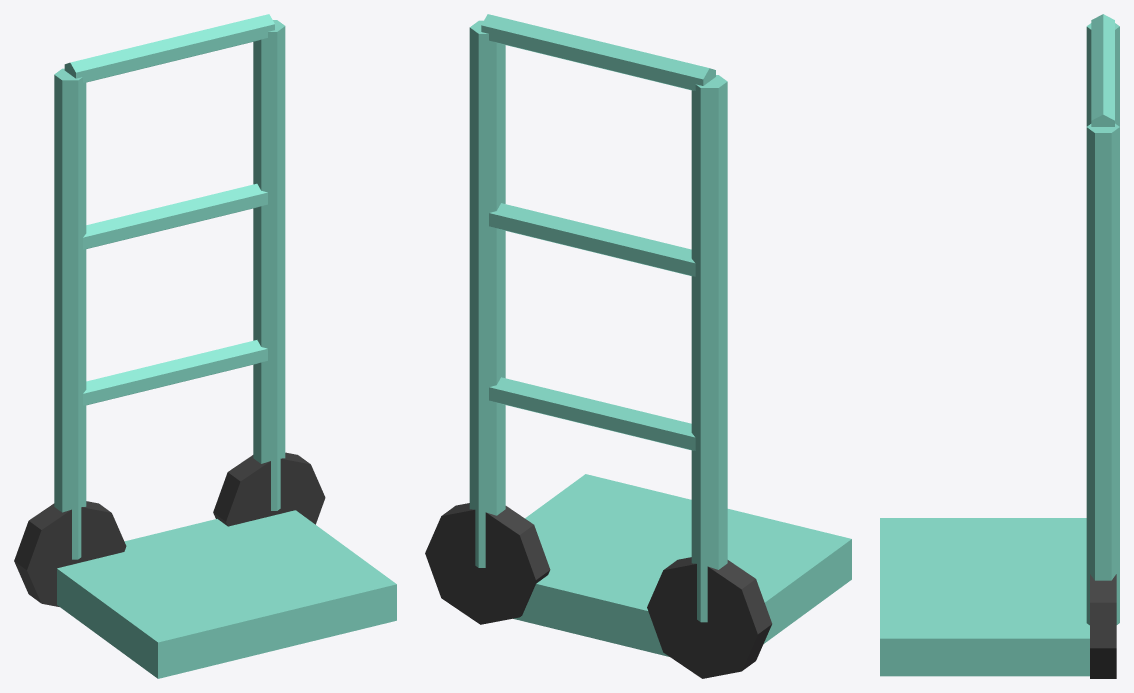
3 views of the same model, side by side, from view 1: azimuth 30°, elevation 25°; view 2: azimuth 150°, elevation 25°; view 3: azimuth 270°, elevation 25° (orthographic). The views are drawn at different scales.
Visible parts, largest first — view 1: Loading plate, Frame, Frame.001, Wheel, Wheel.001, Crossbar.002, Crossbar, Crossbar.001; view 2: Loading plate, Frame, Frame.001, Wheel, Wheel.001, Crossbar.002, Crossbar, Crossbar.001; view 3: Loading plate, Frame.001, Wheel.001, Crossbar.002, Frame.
Part boxes in pixels (x1,y1,x2,y2): Loading plate: [57, 510, 396, 678]; Frame: [54, 68, 86, 559]; Frame.001: [253, 20, 285, 510]; Wheel: [14, 501, 126, 606]; Wheel.001: [213, 452, 325, 526]; Crossbar.002: [64, 14, 274, 82]; Crossbar: [83, 340, 267, 405]; Crossbar.001: [83, 183, 267, 249]; Loading plate: [513, 474, 851, 656]; Frame: [691, 75, 727, 622]; Frame.001: [469, 20, 505, 567]; Wheel: [647, 557, 772, 678]; Wheel.001: [425, 503, 550, 624]; Crossbar.002: [481, 14, 715, 90]; Crossbar: [489, 377, 695, 450]; Crossbar.001: [489, 203, 695, 276]; Loading plate: [880, 518, 1089, 676]; Frame.001: [1086, 123, 1119, 625]; Wheel.001: [1090, 574, 1116, 678]; Crossbar.002: [1091, 14, 1114, 126]; Frame: [1086, 23, 1119, 126].
Bounding box in the file's own units: 60 × 104 × 40.3.
